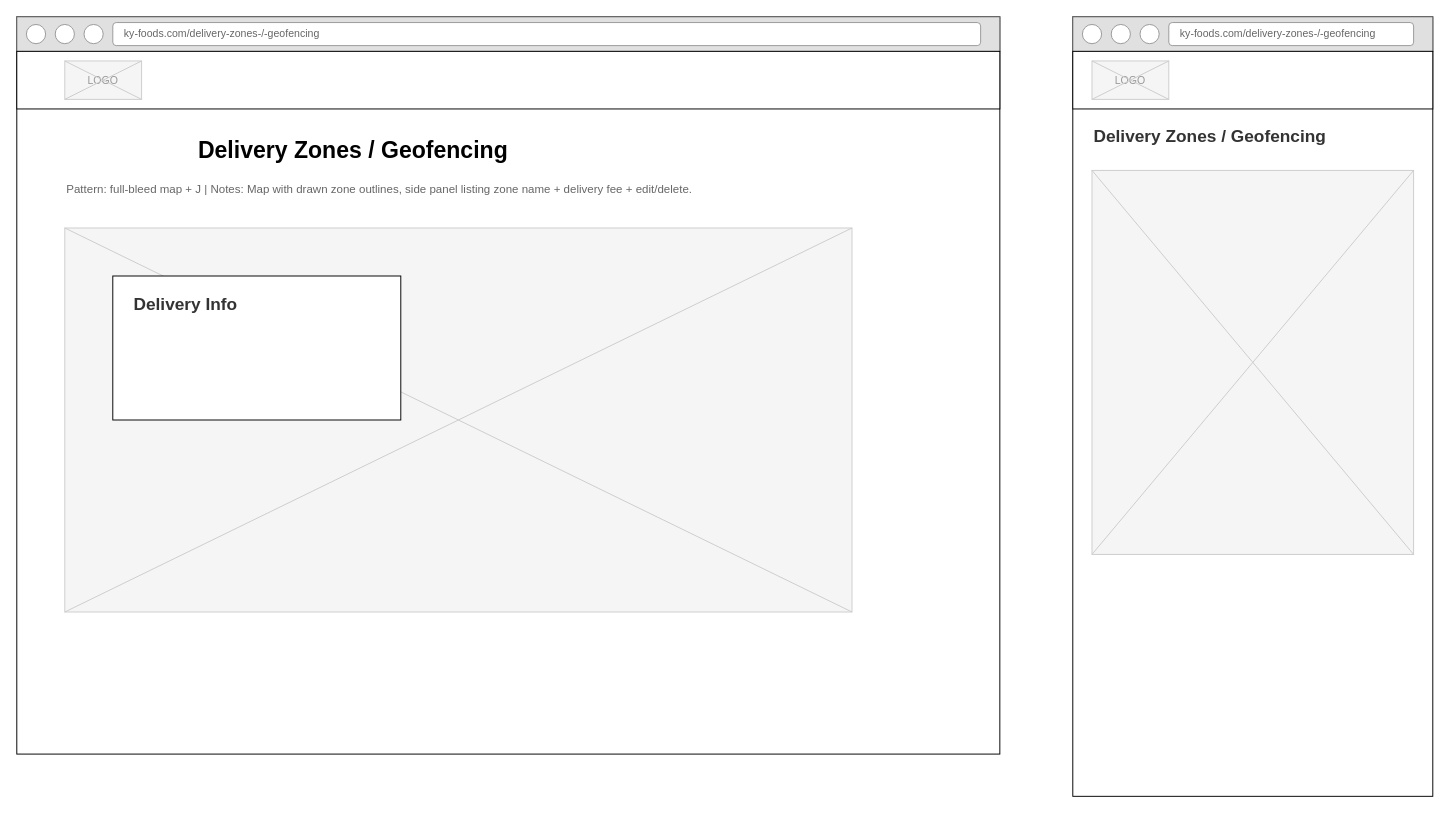
Image size: 1450x813. Some labels were removed from this diagram. Each missing label, with the box of its shape:
Full Bleed Map: (64, 227, 852, 612)
Wireframe Placeholder: (1091, 169, 1414, 554)
